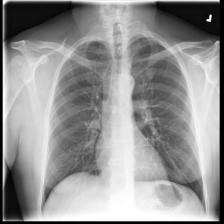normal: (37, 35, 206, 217)
